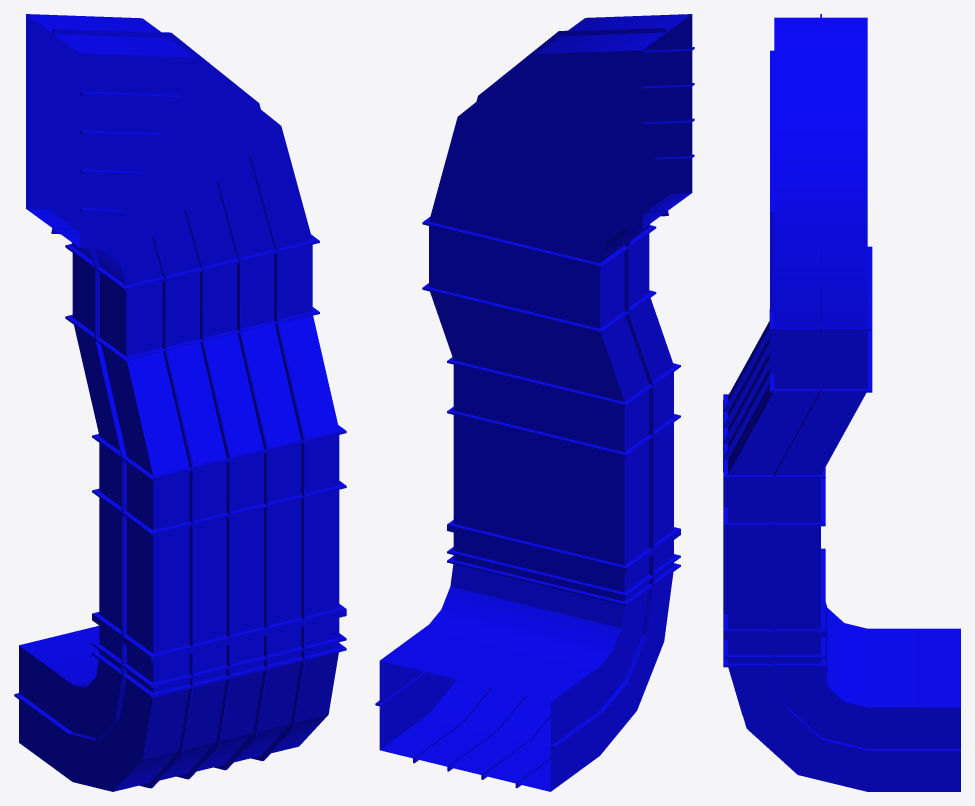
File: Bof_VentRight.fbx
3 views of the same model, side by side, from view 1: azimuth 30°, elevation 25°; view 2: azimuth 150°, elevation 25°; view 3: azimuth 270°, elevation 25° (orthographic). The views are drawn at different scales.
Parts seen in each view (by area): view 1: Bof_VentRight; view 2: Bof_VentRight; view 3: Bof_VentRight.
Part boxes in pixels (bbox=[...]): Bof_VentRight: bbox=[14, 14, 346, 791]; Bof_VentRight: bbox=[375, 14, 694, 791]; Bof_VentRight: bbox=[723, 14, 960, 791].
Bounding box in the file's own units: 256 × 810 × 255.
